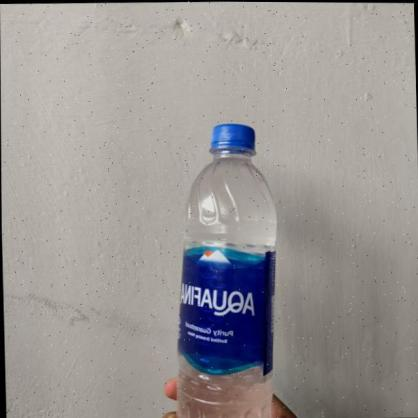bottle: (173, 119, 279, 418)
cap: (209, 123, 256, 153)
label: (176, 249, 276, 377)
